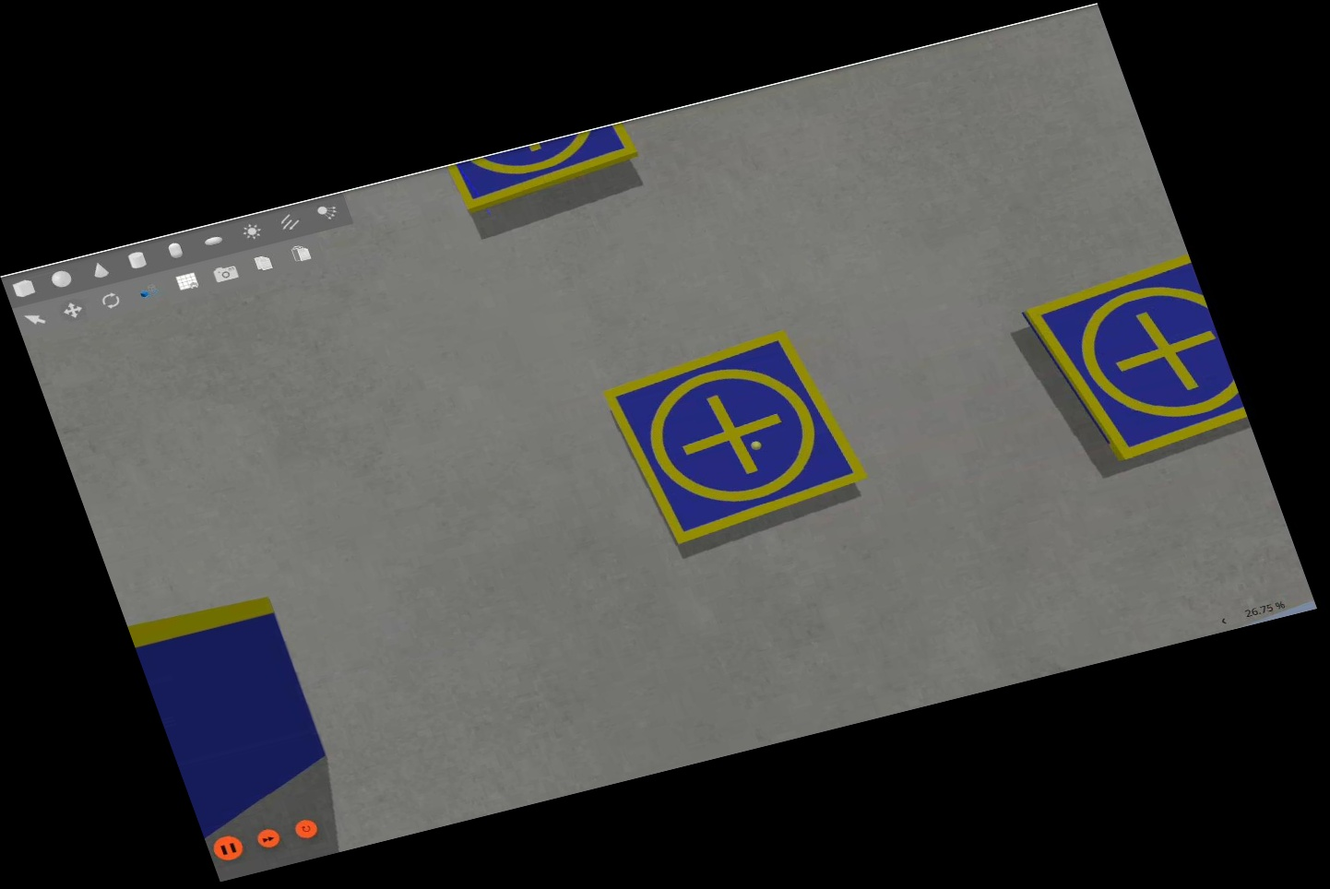small_base: (597, 322, 881, 554), (1015, 253, 1253, 474), (449, 120, 645, 214)
